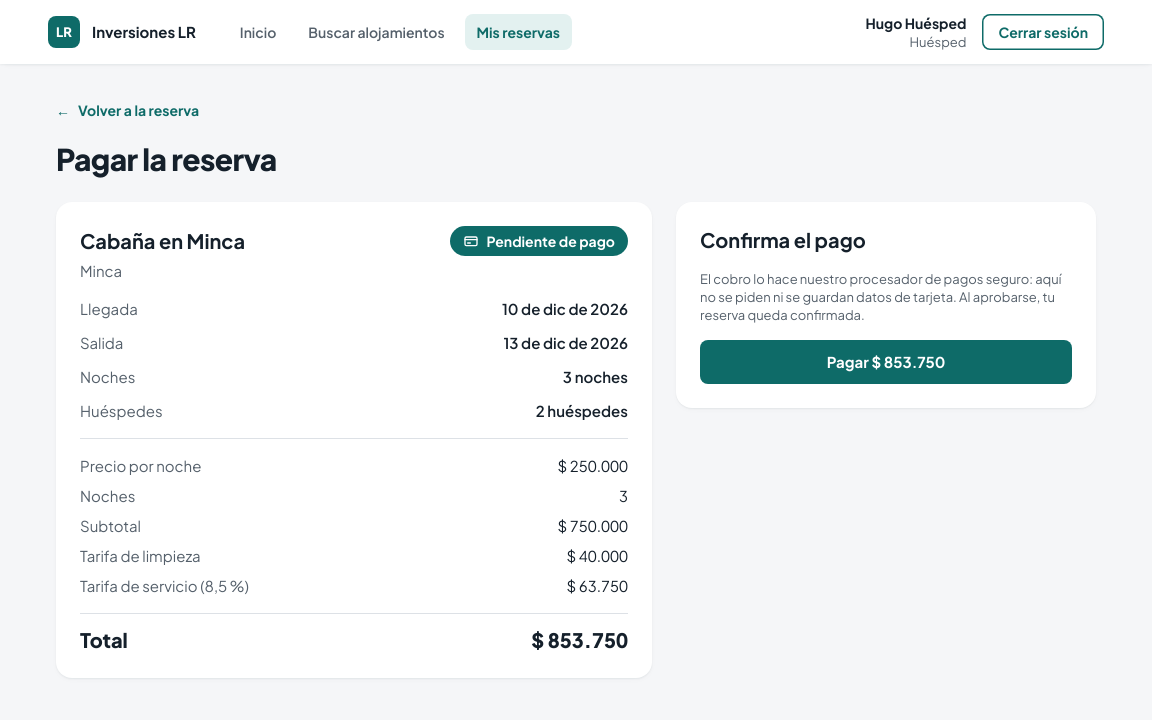
Test: pago de la reserva › reservas que no están pendientes de pago › 409 ESTADO_RESERVA_INVALIDO: lo explica y lleva a ver la reserva
Expected: the heading "Cabaña en Minca" is shown, [80,227,245,255]
Click the button "Pagar $ 853.750" at (886, 362), box [700,340,1072,384]
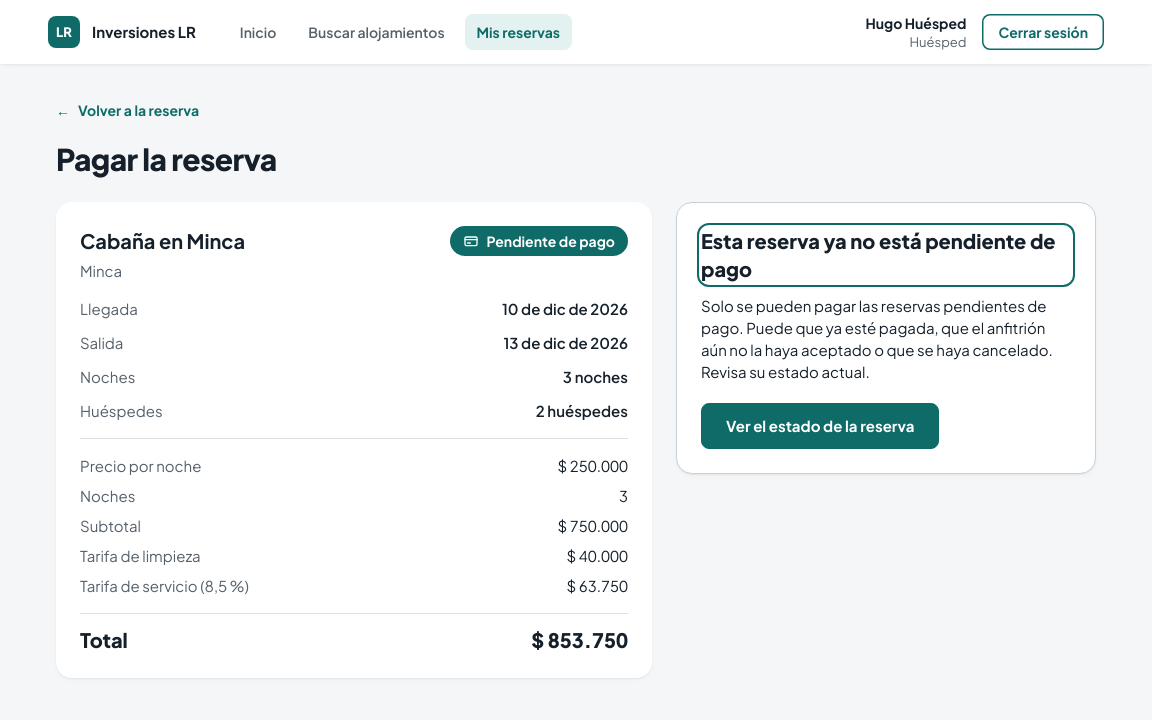
Expected: the message shows "Solo se pueden pagar las reservas pendientes de pago.", [701,296,1053,381]
